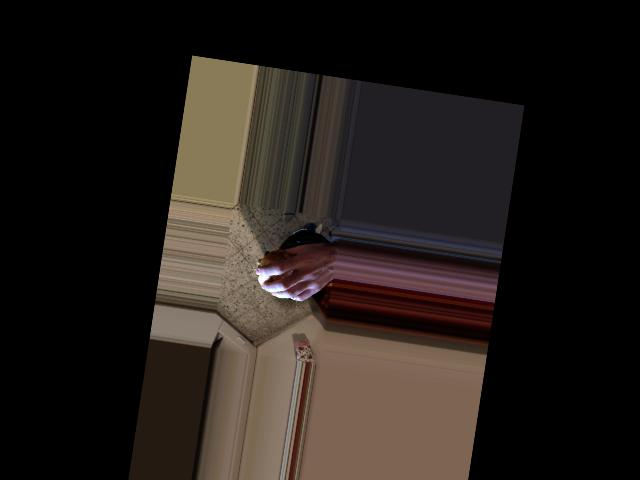onion: (255, 248, 299, 294)
